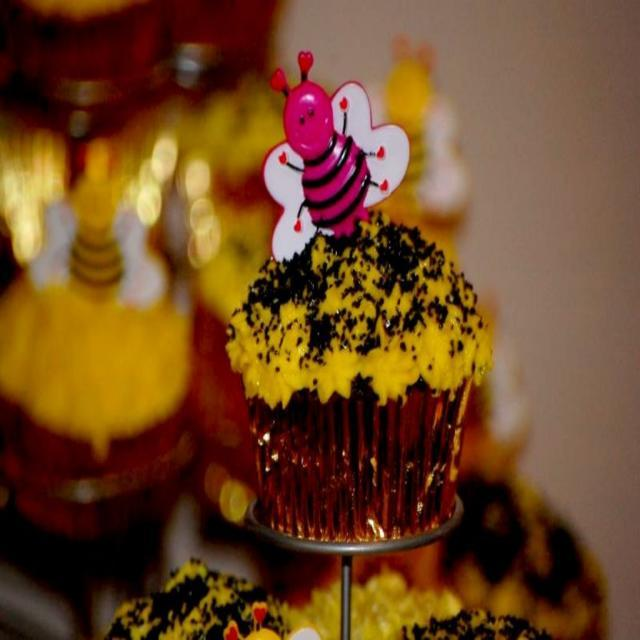Muffin: (229, 213, 500, 543), (96, 559, 290, 639), (399, 600, 541, 638)
